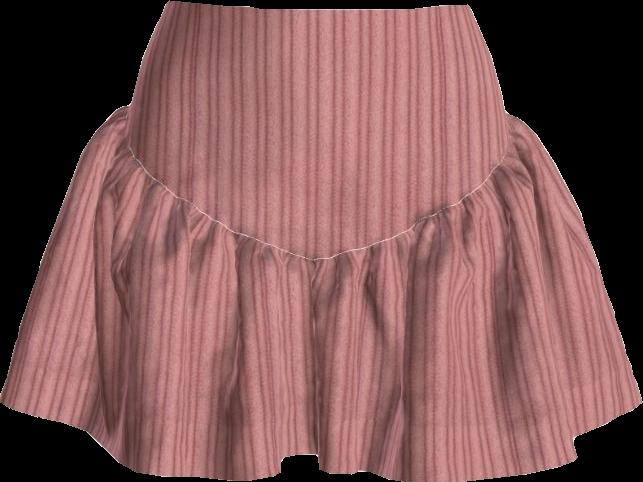Hemline: (0, 395, 642, 481)
Waistline: (126, 105, 512, 261), (167, 0, 471, 10)
